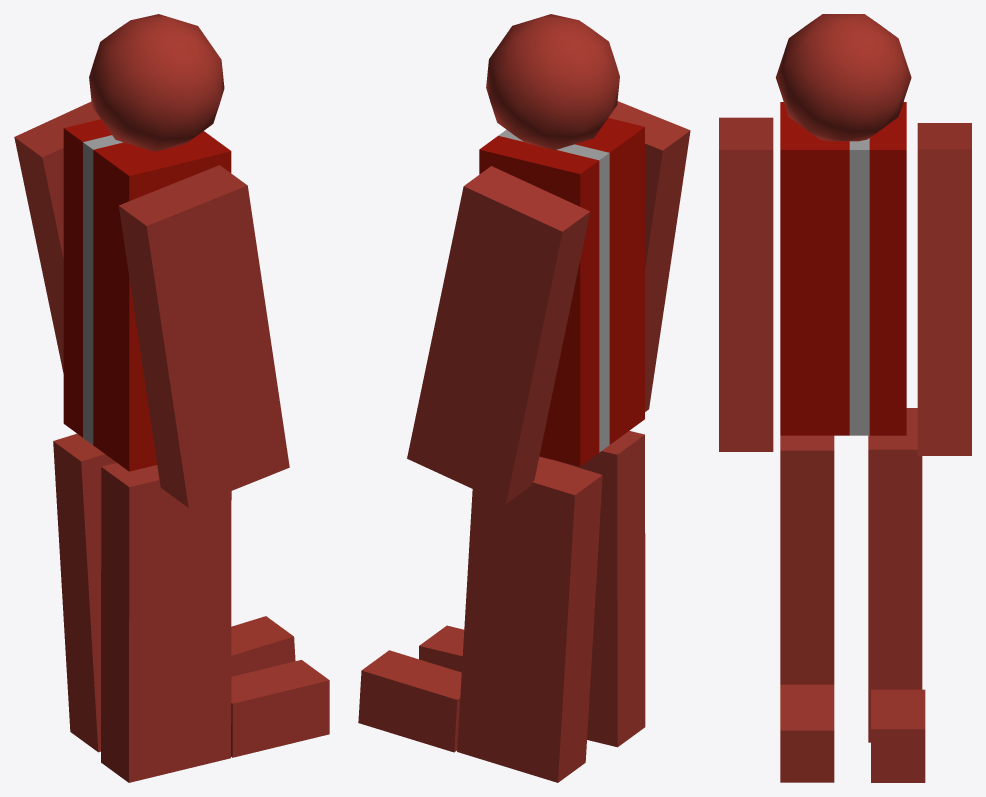
The model's file is player_000042.obj.
3 renders of one model, left to right at view 1: azimuth 30°, elevation 25°; view 2: azimuth 150°, elevation 25°; view 3: azimuth 270°, elevation 25°, orthographic. The views are drawn at different scales.
Visible parts, largest first — view 1: Cube.013, Cube.010, Cube.007, Icosphere.001, Cube.008, Cube.011, Cube.012, Cube.009; view 2: Cube.012, Cube.008, Cube.007, Cube.010, Icosphere.001, Cube.013, Cube.009, Cube.011; view 3: Cube.007, Cube.013, Cube.012, Cube.008, Cube.010, Icosphere.001, Cube.011, Cube.009.
Boxes of the visible parts, x1,y1,x2,y2 form: Cube.013: [118, 165, 289, 507]; Cube.010: [101, 463, 231, 782]; Cube.007: [63, 119, 231, 471]; Icosphere.001: [89, 14, 224, 151]; Cube.008: [53, 433, 116, 752]; Cube.011: [231, 660, 329, 757]; Cube.012: [14, 101, 100, 373]; Cube.009: [231, 616, 295, 676]; Cube.012: [407, 166, 590, 503]; Cube.008: [457, 456, 602, 782]; Cube.007: [479, 118, 644, 466]; Cube.010: [560, 431, 645, 747]; Icosphere.001: [486, 14, 619, 149]; Cube.013: [608, 101, 690, 411]; Cube.009: [358, 650, 461, 752]; Cube.011: [419, 625, 464, 672]; Cube.007: [780, 102, 906, 435]; Cube.013: [719, 117, 773, 451]; Cube.012: [917, 123, 971, 455]; Cube.008: [868, 408, 922, 742]; Cube.010: [780, 435, 834, 684]; Icosphere.001: [775, 14, 911, 141]; Cube.011: [780, 684, 834, 782]; Cube.009: [871, 689, 925, 782].
Size of the model in its own units: 0.9295 by 2.81 by 0.9137.
